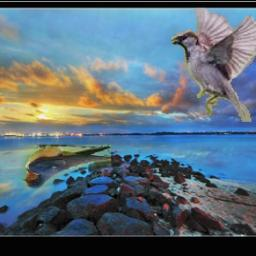Sparrow: (170, 8, 256, 122)
Swallow: (21, 145, 111, 188)
